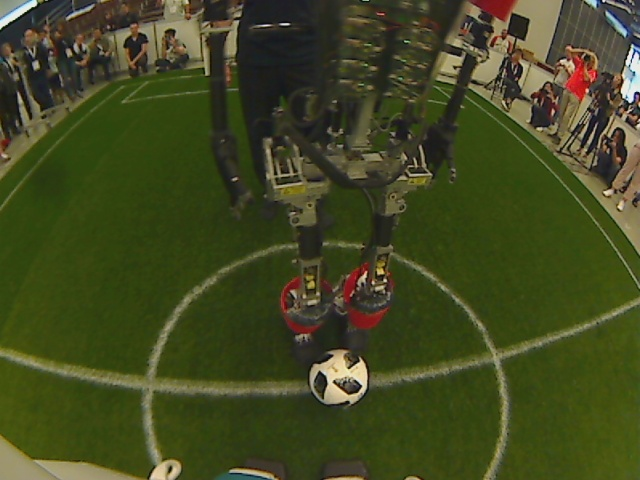ball: (306, 349, 372, 409)
